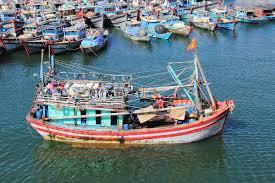Ship: (27, 55, 235, 149), (80, 31, 108, 54), (122, 22, 152, 43)
